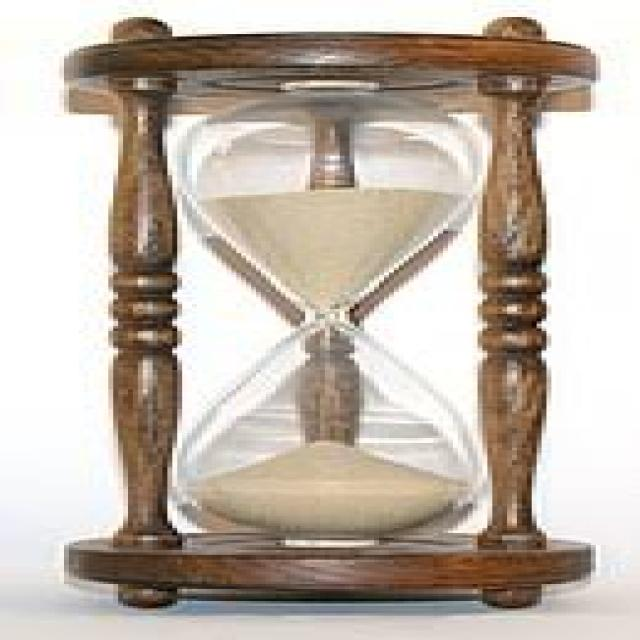clock: (22, 18, 609, 614)
